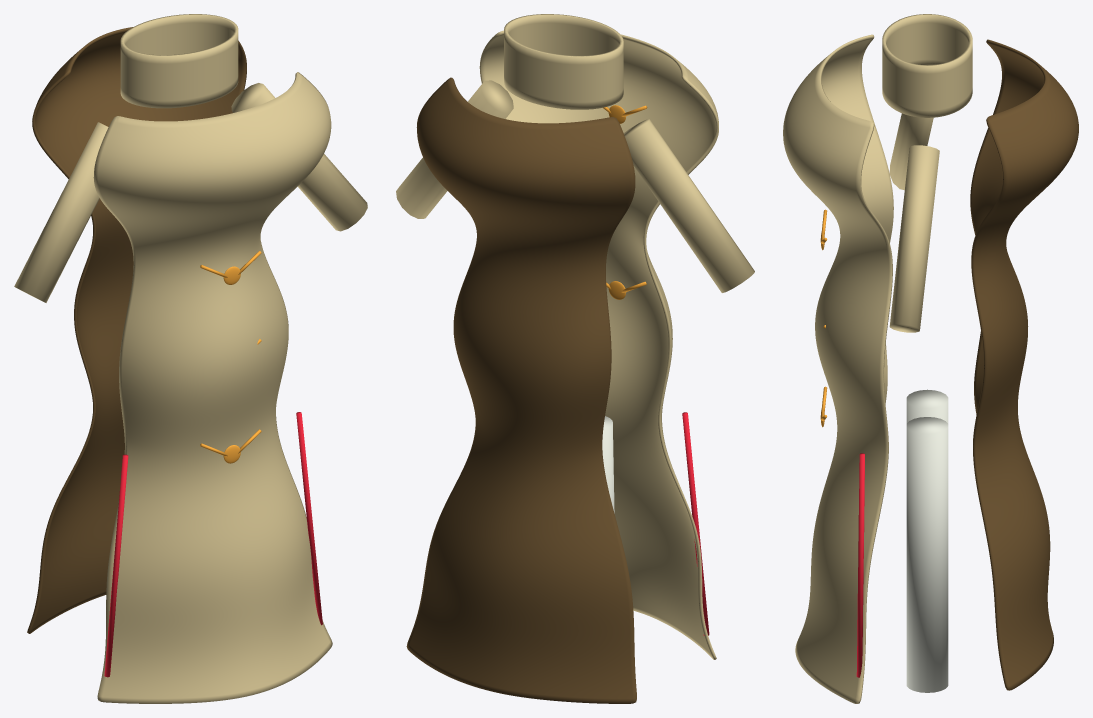
Rendered from BL_AODAI_004.obj.
3 views of the same model, side by side, from view 1: azimuth 30°, elevation 25°; view 2: azimuth 150°, elevation 25°; view 3: azimuth 270°, elevation 25° (orthographic). The views are drawn at different scales.
Visible parts, largest first — view 1: front_ao_dai_panel, back_ao_dai_panel, structured_high_collar, silk_sleeve, silk_sleeve.001, side_slit_piping, side_slit_piping.002; view 2: back_ao_dai_panel, front_ao_dai_panel, structured_high_collar, silk_sleeve, silk_sleeve.001, side_slit_piping, ivory_trouser_leg; view 3: front_ao_dai_panel, back_ao_dai_panel, ivory_trouser_leg.001, structured_high_collar, silk_sleeve.001, silk_sleeve, side_slit_piping.002, ivory_trouser_leg.
Part boxes in pixels (x1,y1,x2,y2): front_ao_dai_panel: (93, 72, 332, 703); back_ao_dai_panel: (27, 27, 246, 633); structured_high_collar: (120, 14, 238, 108); silk_sleeve: (14, 122, 108, 302); silk_sleeve.001: (231, 83, 367, 231); side_slit_piping: (104, 454, 128, 677); side_slit_piping.002: (296, 412, 322, 625); back_ao_dai_panel: (406, 77, 636, 703); front_ao_dai_panel: (479, 30, 718, 659); structured_high_collar: (504, 14, 623, 109); silk_sleeve: (623, 119, 754, 292); silk_sleeve.001: (396, 80, 513, 218); side_slit_piping: (682, 412, 709, 635); ivory_trouser_leg: (602, 416, 614, 513); front_ao_dai_panel: (783, 34, 893, 703); back_ao_dai_panel: (970, 39, 1078, 690); ivory_trouser_leg.001: (906, 417, 948, 692); structured_high_collar: (882, 14, 972, 117); silk_sleeve.001: (889, 145, 939, 332); silk_sleeve: (889, 113, 933, 189); side_slit_piping.002: (856, 453, 864, 677); ivory_trouser_leg: (906, 389, 948, 423).
Size of the model in its own units: 1.42 by 2.45 by 1.05.
